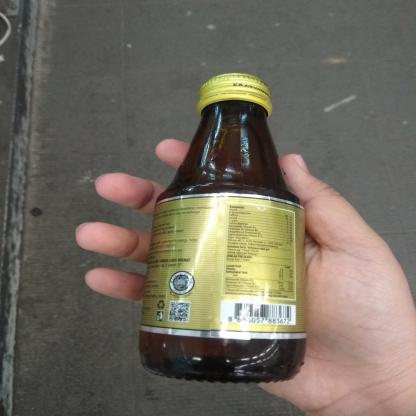glass: (134, 70, 314, 387)
